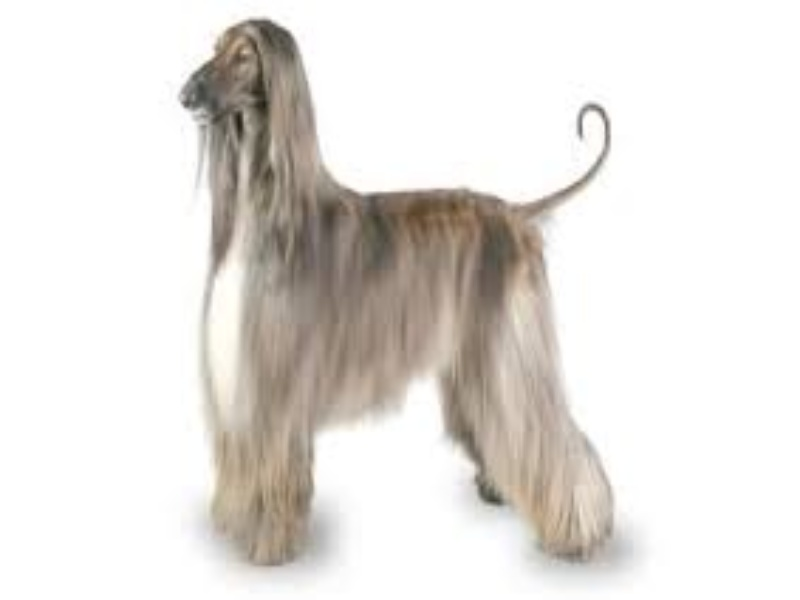dog: (171, 11, 651, 568)
